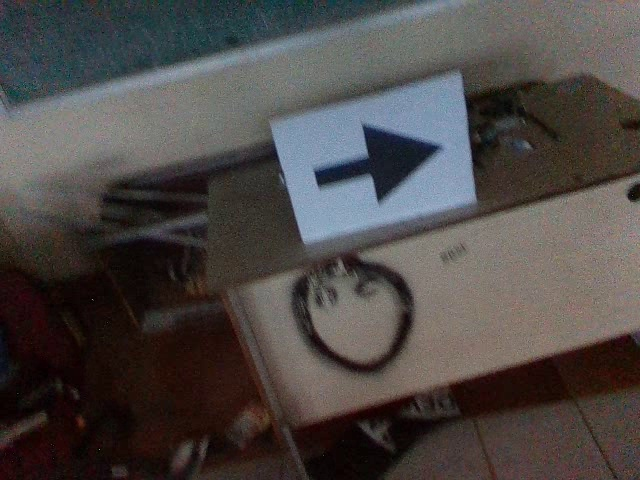Right: (308, 119, 447, 206)
